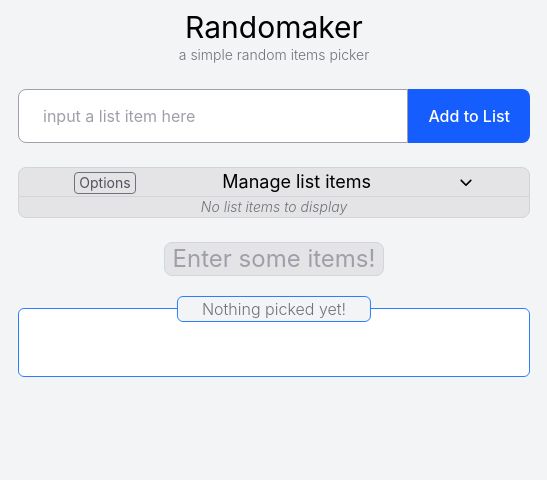
Test: +page.svelte › shows a selected item after clicking pick
Type "Banana" into the field named "list-input" at (213, 116), box [18,89,408,143]
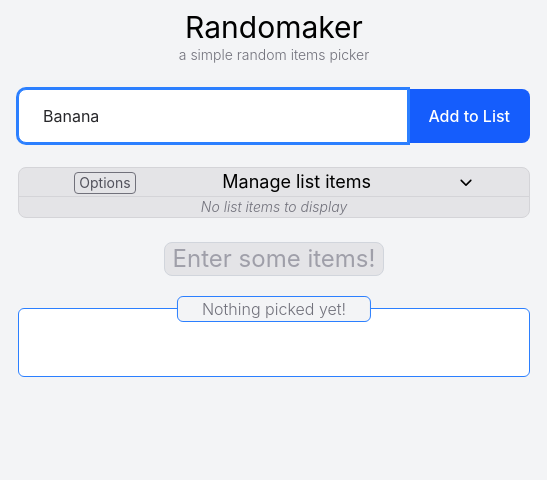
Press Enter
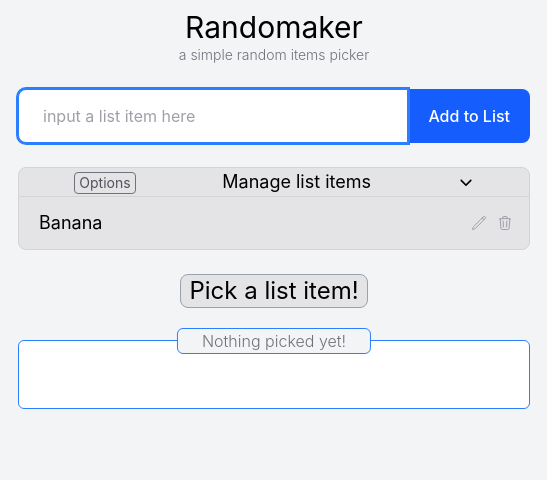
Type "Apple" into the field named "list-input" at (213, 116), box [18,89,408,143]
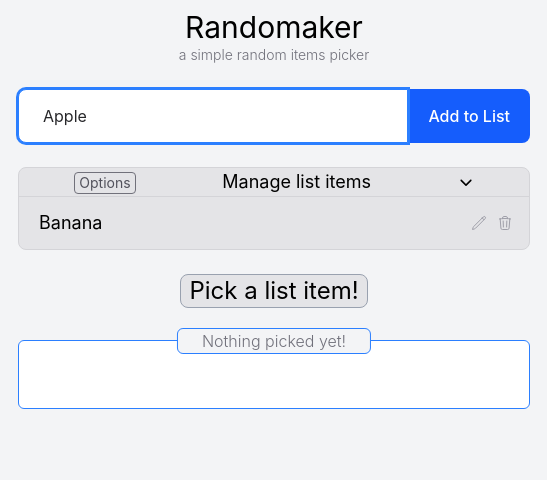
Press Enter
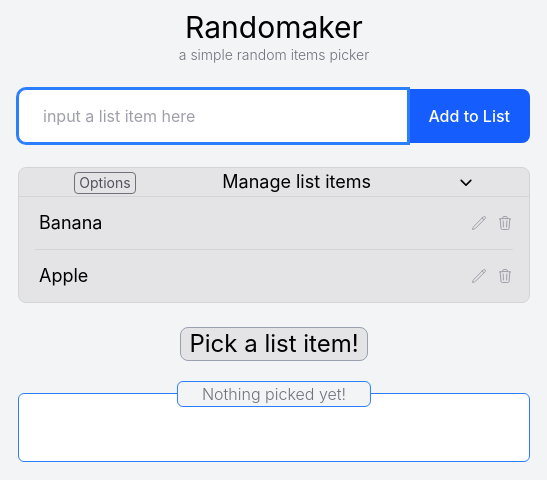
Click the button with aria-label "pick button" at (274, 344), box [180,327,368,361]
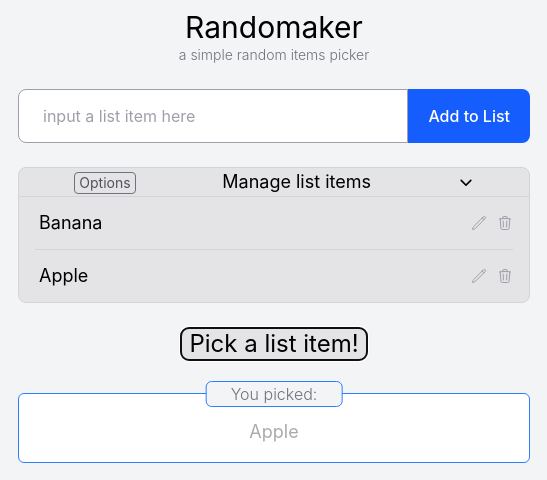
Check: the text "Apple" below "You picked:" is shown, box [249,421,299,442]
